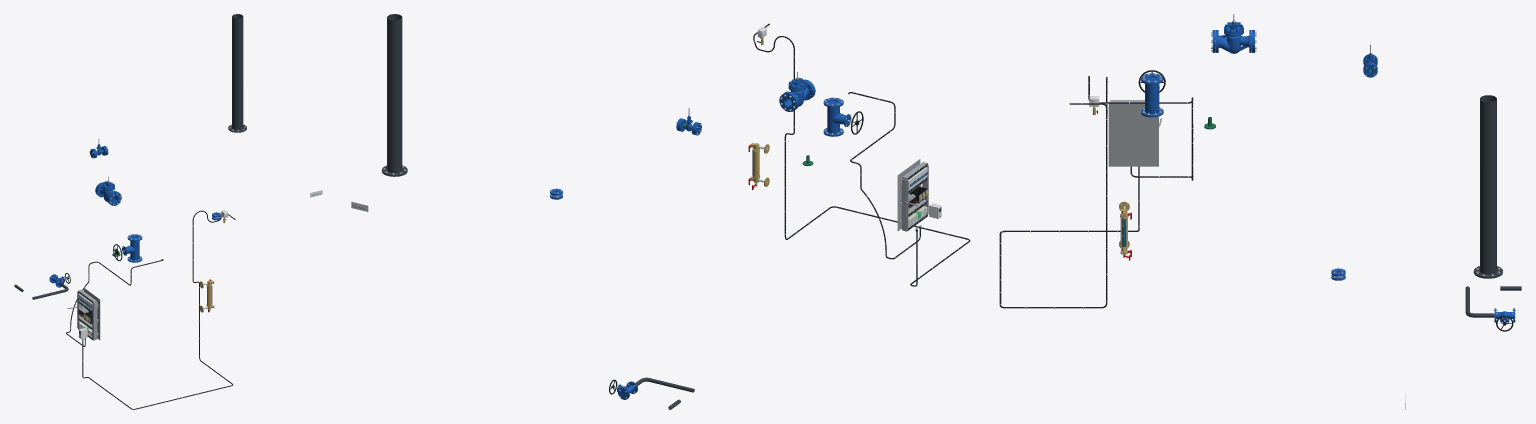
3 views of the same model, side by side, from view 1: azimuth 30°, elevation 25°; view 2: azimuth 150°, elevation 25°; view 3: azimuth 270°, elevation 25° (orthographic). The views are drawn at different scales.
Visible parts, largest first — view 1: bdv_vent / dark, cabinet_interior / cabinet_interior_0.npz, wiring_pressure_switch_1 / black, steam_manual / blue, wiring_lcs600 / black, gpz CAD solid 0; view 2: bdv_vent / dark, cabinet_interior / cabinet_interior_0.npz, wiring_pressure_switch_1 / black, steam_manual / blue, wiring_lcs600 / black; view 3: bdv_vent / dark, cabinet_interior / cabinet_interior_0.npz, wiring_pressure_switch_1 / black, gpz CAD solid 0, steam_manual / blue, wiring_lcs600 / black, sight_glasses_1 / sight_glasses_1_0.npz.
Part boxes in pixels (bbox=[...]): bdv_vent / dark: bbox=[228, 14, 246, 132]; cabinet_interior / cabinet_interior_0.npz: bbox=[67, 288, 100, 340]; wiring_pressure_switch_1 / black: bbox=[82, 210, 235, 409]; steam_manual / blue: bbox=[122, 234, 142, 262]; wiring_lcs600 / black: bbox=[66, 259, 163, 346]; gpz CAD solid 0: bbox=[96, 176, 117, 203]; bdv_vent / dark: bbox=[381, 14, 407, 176]; cabinet_interior / cabinet_interior_0.npz: bbox=[897, 159, 928, 231]; wiring_pressure_switch_1 / black: bbox=[753, 23, 970, 286]; steam_manual / blue: bbox=[823, 97, 851, 136]; wiring_lcs600 / black: bbox=[848, 92, 920, 259]; bdv_vent / dark: bbox=[1473, 95, 1502, 278]; cabinet_interior / cabinet_interior_0.npz: bbox=[1108, 100, 1162, 166]; wiring_pressure_switch_1 / black: bbox=[999, 76, 1139, 308]; gpz CAD solid 0: bbox=[1215, 14, 1251, 53]; steam_manual / blue: bbox=[1141, 73, 1163, 117]; wiring_lcs600 / black: bbox=[1088, 76, 1193, 180]; sight_glasses_1 / sight_glasses_1_0.npz: bbox=[1119, 201, 1131, 260].
Size of the model in its own units: 5.81 by 3.81 by 5.05.
